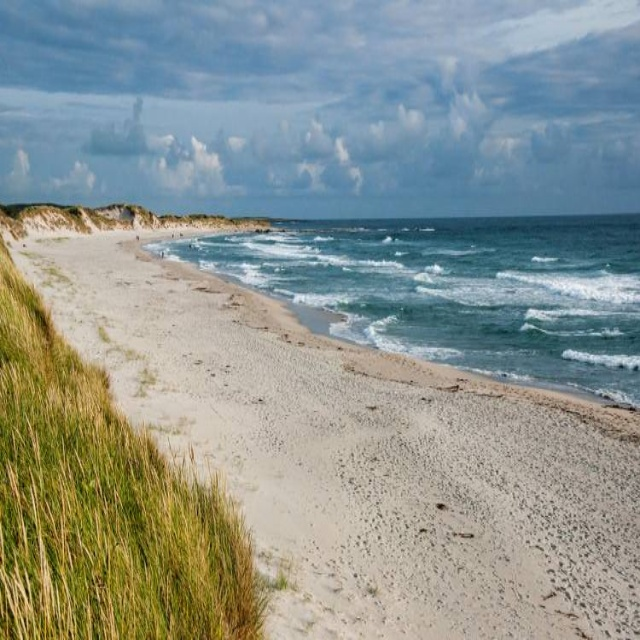linhaEspraiamento: (290, 290, 640, 444), (140, 254, 478, 373), (118, 231, 220, 267), (203, 228, 258, 245), (242, 228, 292, 237)
